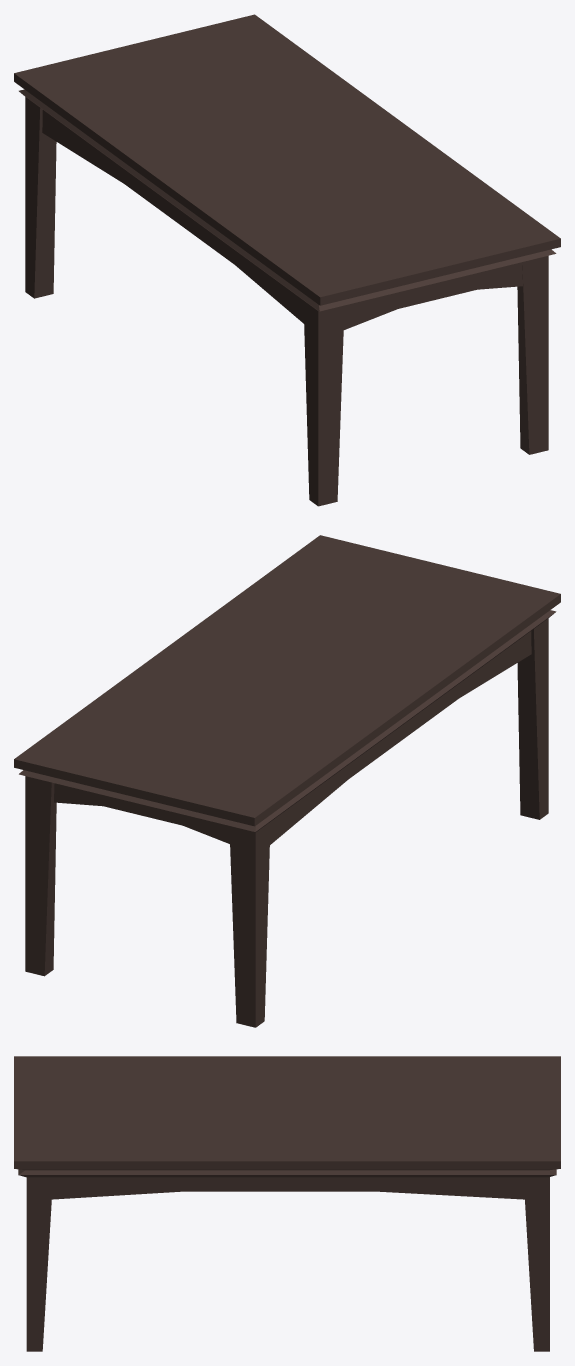
The model's file is Long_table.fbx.
The picture shows the model from 3 angles, top to bottom: view 1: azimuth 30°, elevation 25°; view 2: azimuth 150°, elevation 25°; view 3: azimuth 270°, elevation 25°; orthographic projection. The views are drawn at different scales.
Parts seen in each view (by area): view 1: Cube, Cube.004, Cube.001, Cube.003, Cube.006, Cube.008; view 2: Cube, Cube.003, Cube.002, Cube.004, Cube.006, Cube.007; view 3: Cube, Cube.005, Cube.001, Cube.002.
Part boxes in pixels (x1,y1,x2,y2): Cube: (14,14,560,311); Cube.004: (303,300,344,506); Cube.001: (517,255,548,454); Cube.003: (25,97,56,298); Cube.006: (42,110,303,323); Cube.008: (343,262,522,329); Cube: (14,535,560,832); Cube.003: (229,822,270,1027); Cube.002: (25,776,56,976); Cube.004: (517,618,548,819); Cube.006: (270,631,531,844); Cube.007: (54,783,229,843); Cube: (14,1056,560,1177); Cube.005: (52,1177,524,1199); Cube.001: (26,1177,52,1351); Cube.002: (523,1177,549,1351).
Size of the model in its own units: 236 by 202 by 521.
